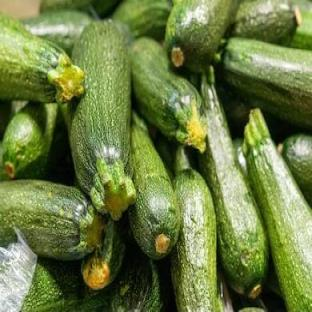Zucchini: (200, 76, 268, 297), (244, 110, 311, 310), (70, 21, 135, 219), (22, 250, 163, 311), (131, 39, 206, 152), (0, 180, 102, 260), (221, 39, 311, 128), (0, 15, 83, 103), (129, 114, 179, 259), (171, 168, 216, 310), (3, 104, 59, 178), (82, 216, 126, 290), (24, 10, 91, 55), (217, 86, 264, 137), (281, 135, 311, 205), (154, 132, 176, 181), (291, 10, 311, 50), (173, 146, 196, 175), (233, 138, 247, 177), (0, 102, 11, 137), (0, 141, 7, 181), (238, 308, 265, 311)
